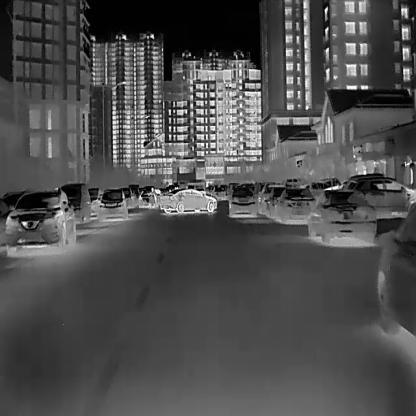car: (376, 200, 415, 340), (5, 189, 76, 249), (307, 187, 377, 244), (348, 175, 415, 214), (274, 187, 317, 225), (158, 188, 216, 213), (58, 183, 91, 222), (258, 183, 287, 217), (98, 189, 127, 220), (229, 186, 258, 217), (264, 186, 288, 217), (137, 189, 161, 208), (119, 186, 138, 209)
